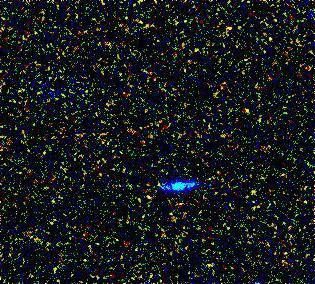star: (231, 96, 261, 126)
